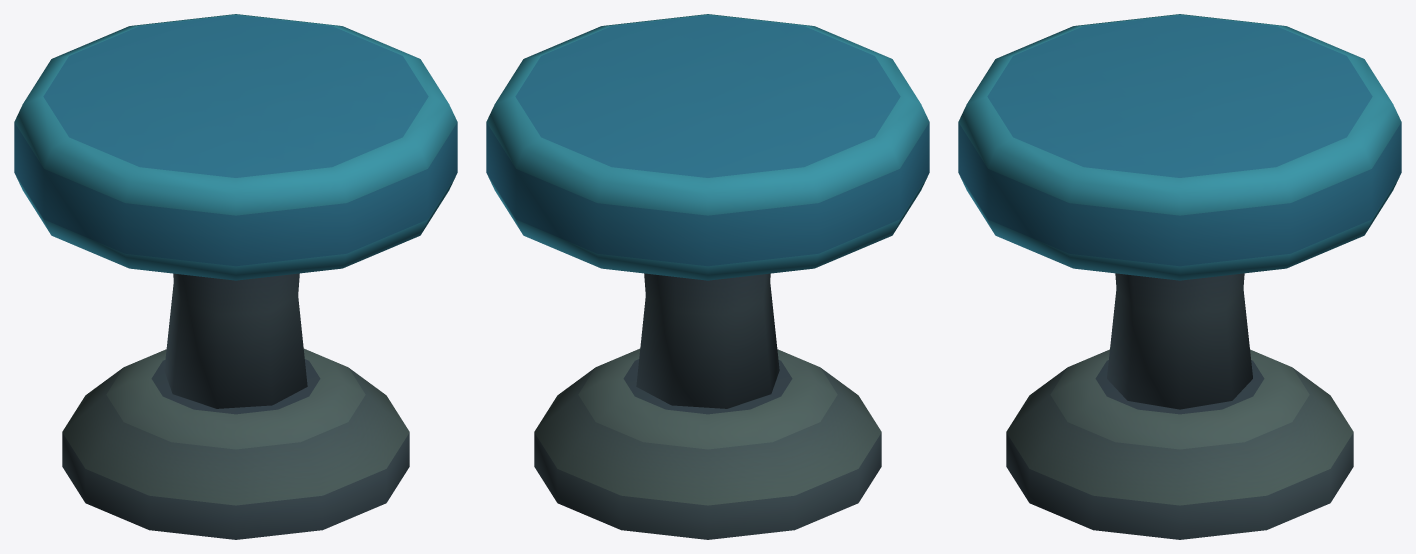
File: stool1_LOD_setup.fbx
3 renders of one model, left to right at view 1: azimuth 30°, elevation 25°; view 2: azimuth 150°, elevation 25°; view 3: azimuth 270°, elevation 25°, orthographic.
Parts seen in each view (by area): view 1: stool1_LOD0; view 2: stool1_LOD0; view 3: stool1_LOD0.
Part boxes in pixels (x1,y1,x2,y2): stool1_LOD0: [14, 14, 457, 539]; stool1_LOD0: [486, 14, 929, 539]; stool1_LOD0: [958, 14, 1401, 539].
Size of what is drawn, in the model's own units: 54.31 by 50 by 54.31.
